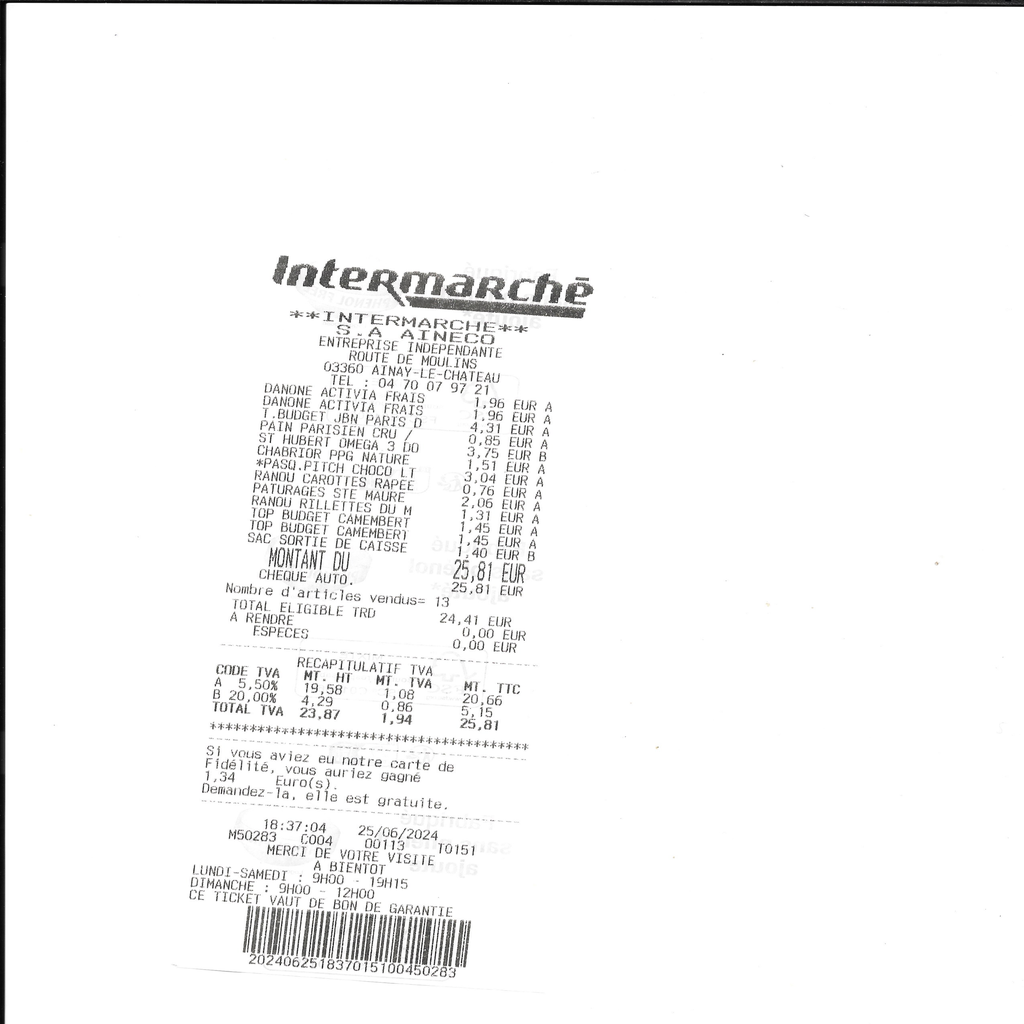recipt: (132, 229, 608, 1001)
